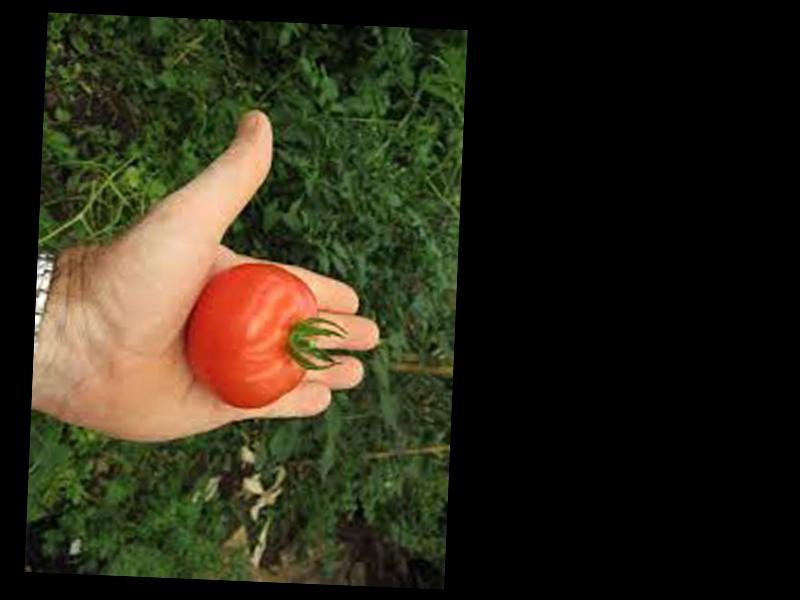Tomato: (184, 259, 318, 413)
